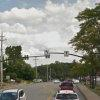Traffic light: (28, 44, 70, 61)
